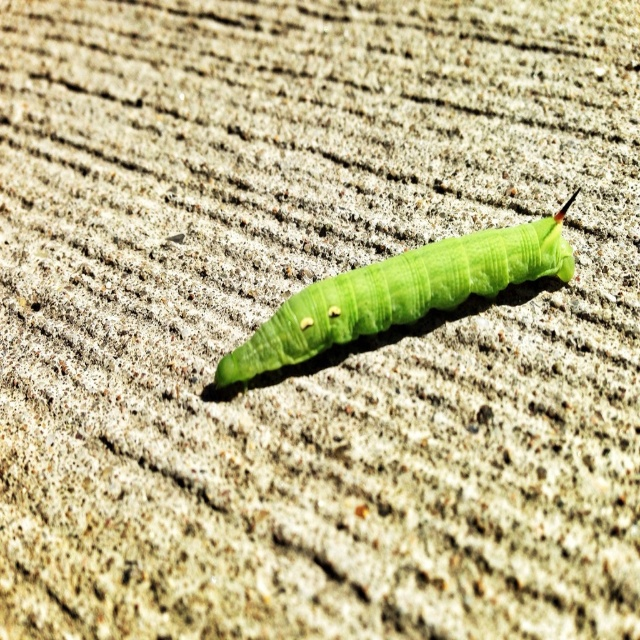Caterpillar: (214, 187, 578, 389)
